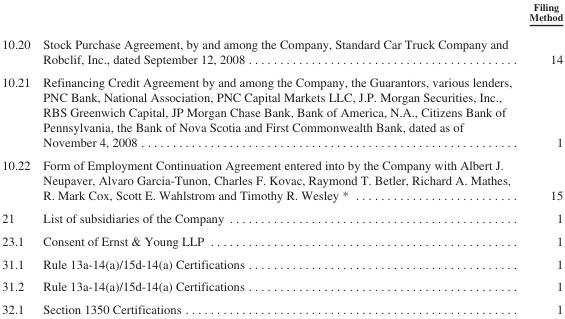table: (1, 0, 562, 315)
table column: (35, 0, 519, 315), (519, 0, 562, 315), (1, 0, 35, 315)
table column header: (1, 0, 562, 29)
table row: (1, 70, 562, 153), (1, 153, 562, 206), (1, 29, 562, 70), (1, 0, 562, 29), (1, 206, 562, 229), (1, 251, 562, 274), (1, 274, 562, 297), (1, 229, 562, 251), (1, 297, 562, 315)
